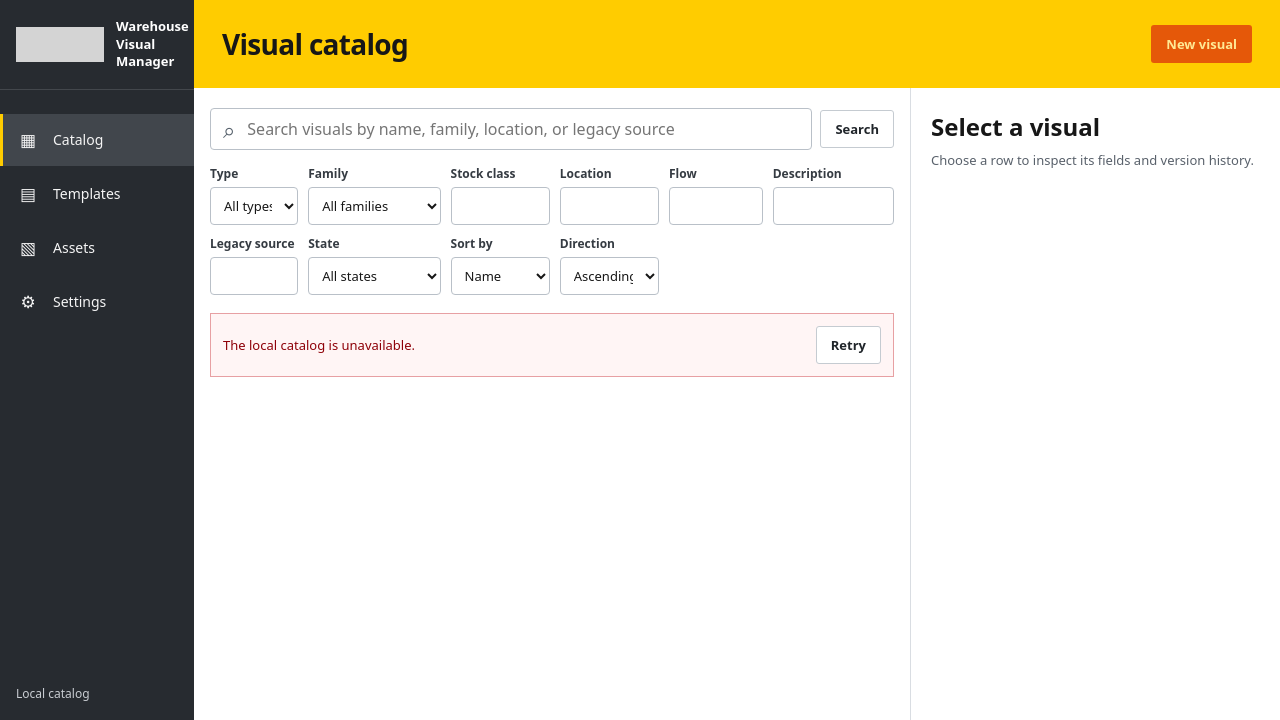
Test: CatalogApp › reports a loading error and retries without hiding the failed request
expect the message shows "The local catalog is unavailable.": met, box [223,336,415,354]
Click the button "Retry" at coordinates (848, 345), box [816,326,881,364]
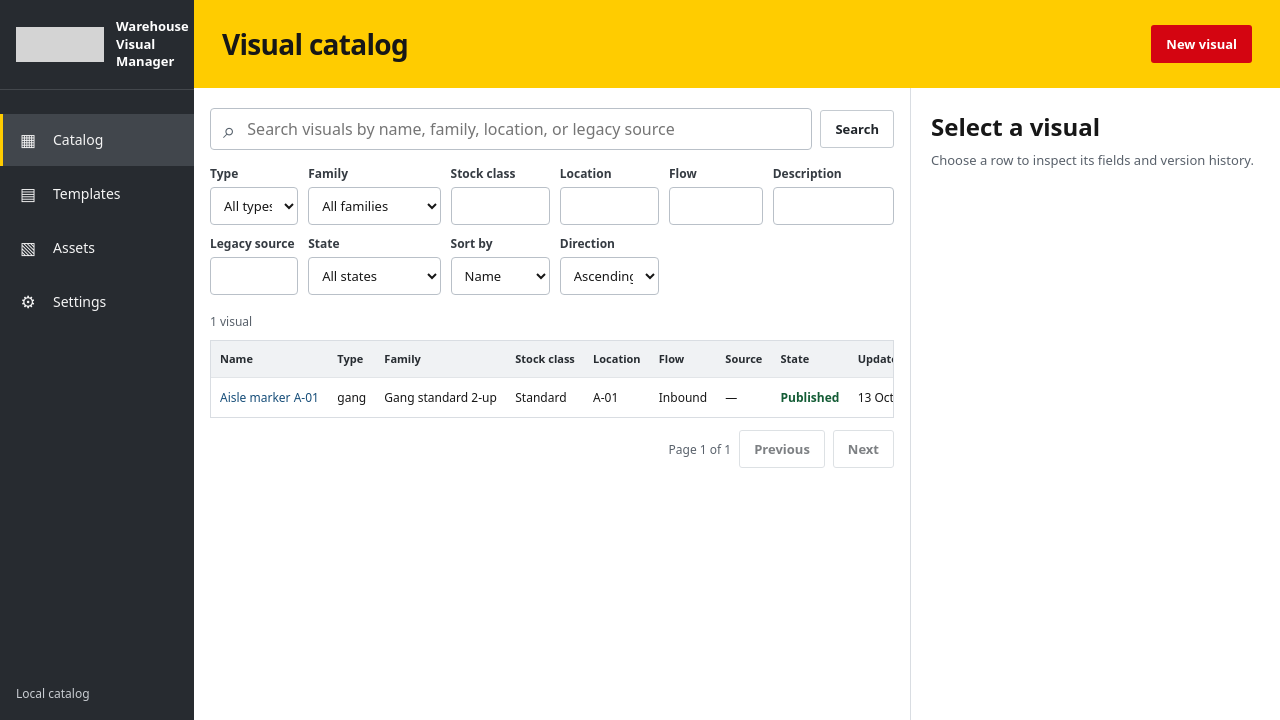
expect the row "Aisle marker A-01" is shown: met, box [211,377,894,417]
